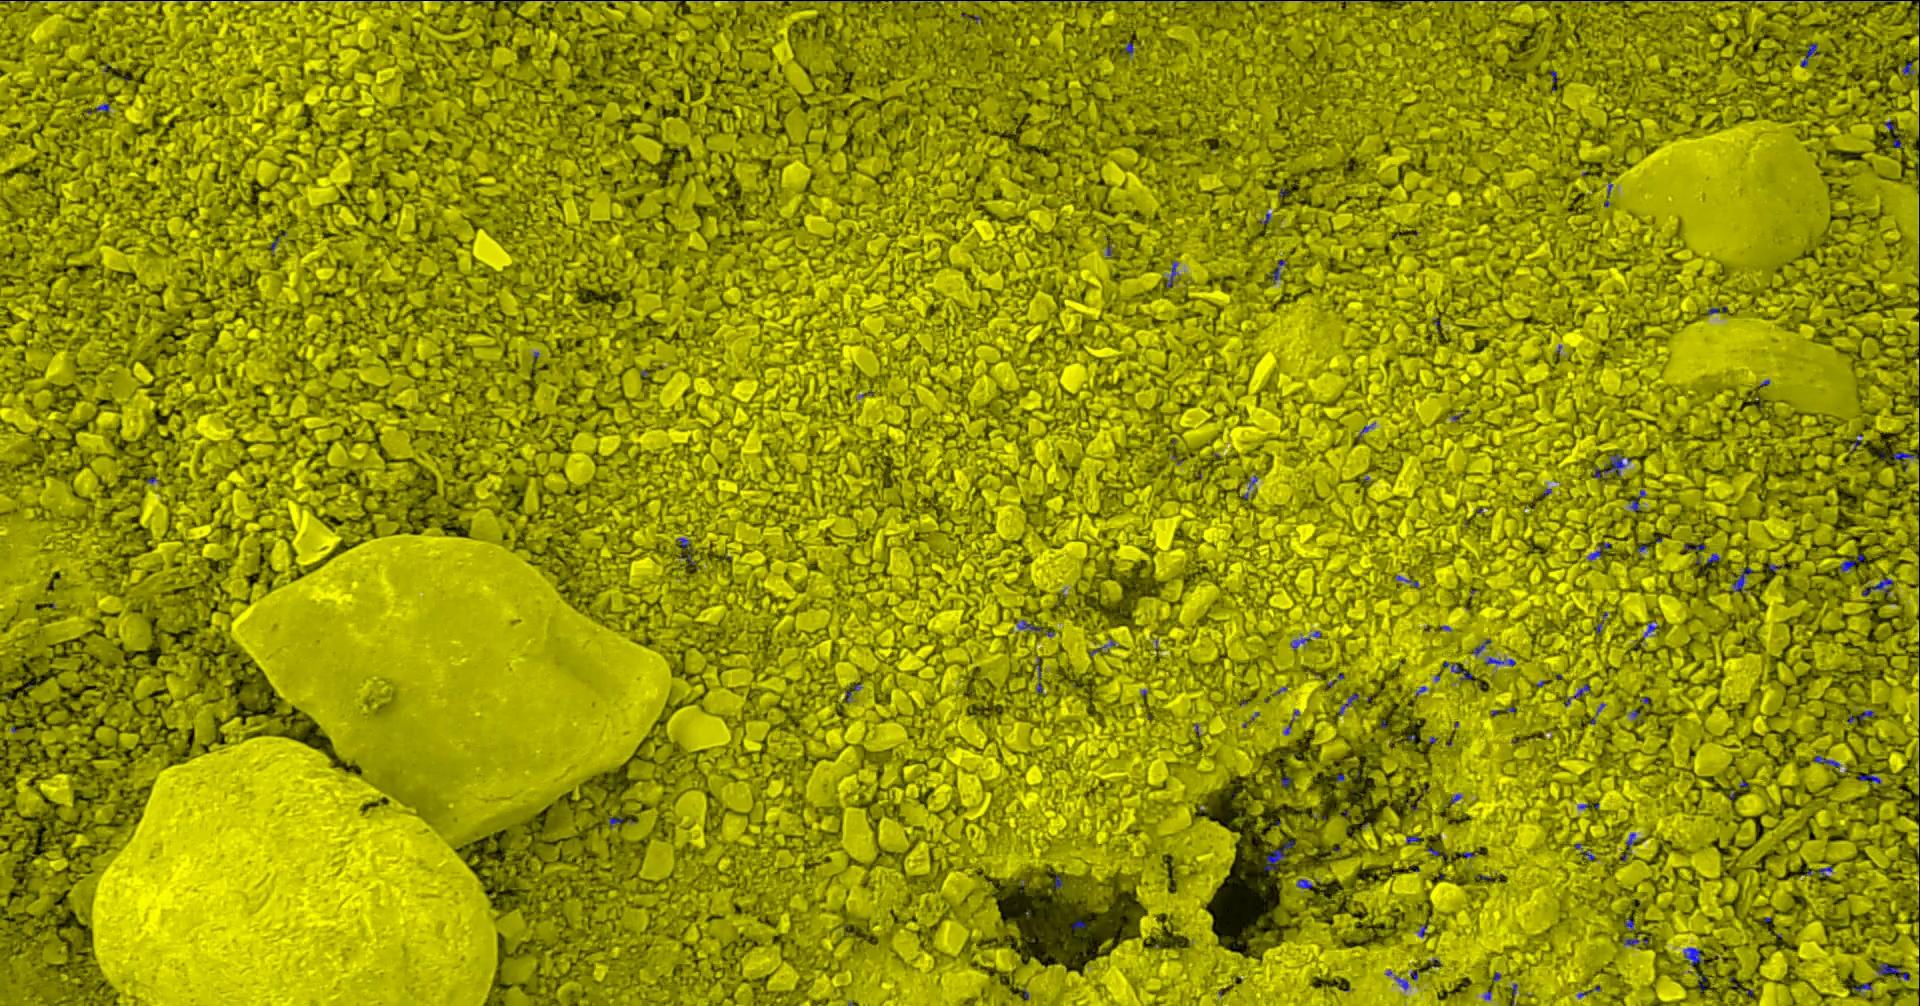ant: (1263, 840, 1295, 870), (1592, 453, 1625, 478), (1877, 962, 1909, 981), (1443, 661, 1472, 680), (1564, 683, 1589, 706), (1290, 631, 1321, 649), (1731, 567, 1752, 591), (676, 537, 695, 564), (1862, 578, 1892, 594), (1799, 42, 1818, 67), (1839, 553, 1864, 572), (1587, 542, 1610, 560), (1338, 694, 1357, 714), (1470, 638, 1491, 655), (1891, 451, 1919, 464), (1683, 948, 1703, 964), (1629, 489, 1644, 511), (1016, 619, 1041, 631), (1848, 710, 1873, 723), (1813, 754, 1839, 767), (1166, 260, 1177, 287), (1857, 774, 1879, 786), (1622, 934, 1647, 945), (1035, 655, 1043, 692), (1484, 657, 1515, 666), (1272, 259, 1284, 282), (1683, 542, 1704, 550), (1297, 878, 1312, 888)
